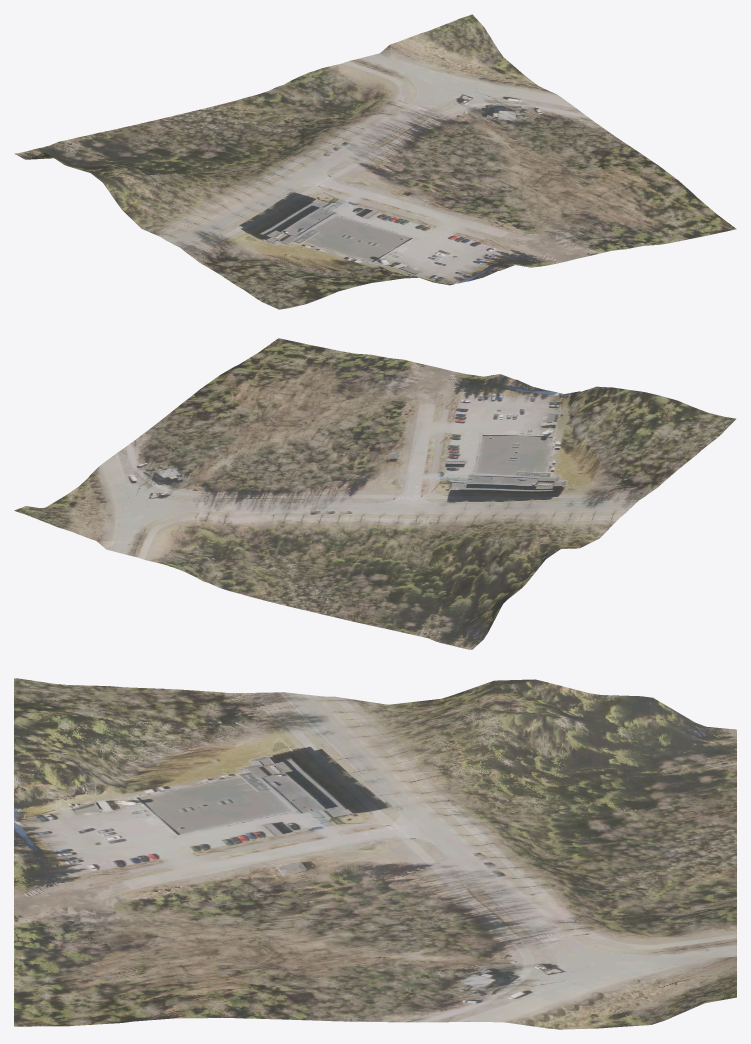
The model's file is CM_Terrain_24492916_6815493.fbx.
The picture shows the model from 3 angles, top to bottom: view 1: azimuth 30°, elevation 25°; view 2: azimuth 150°, elevation 25°; view 3: azimuth 270°, elevation 25°; orthographic projection. The views are drawn at different scales.
Parts seen in each view (by area): view 1: CM_Terrain_24492916_6815493_LOD0; view 2: CM_Terrain_24492916_6815493_LOD0; view 3: CM_Terrain_24492916_6815493_LOD0.
Boxes of the visible parts, x1,y1,x2,y2 form: CM_Terrain_24492916_6815493_LOD0: (14,14,736,309); CM_Terrain_24492916_6815493_LOD0: (14,338,736,649); CM_Terrain_24492916_6815493_LOD0: (14,678,736,1029).
Size of what is drawn, in the model's own units: 205 by 18.45 by 205.
